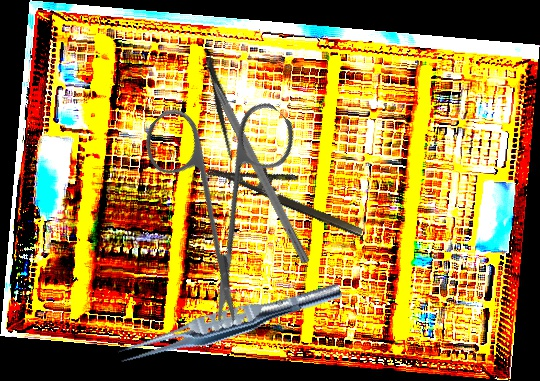Chopper: (195, 46, 322, 265)
Dressing Forceps: (199, 54, 250, 168)
Iris Scissors: (84, 53, 360, 329)
Needle Holder: (206, 143, 373, 239)
Tissue Forceps: (114, 272, 345, 374)
